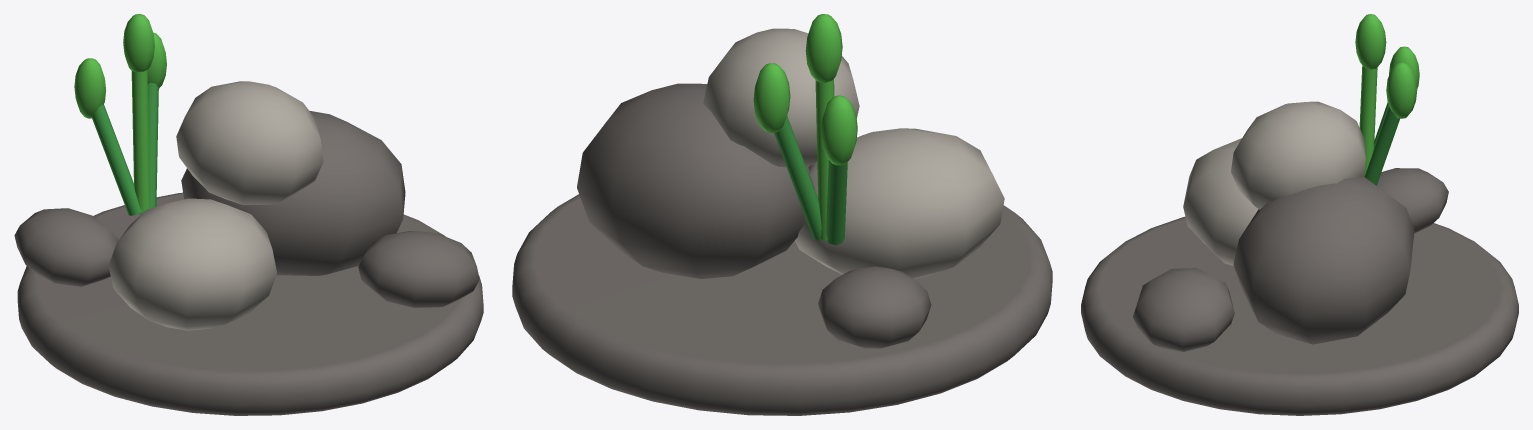
The model's file is DecorRocks.fbx.
3 renders of one model, left to right at view 1: azimuth 30°, elevation 25°; view 2: azimuth 150°, elevation 25°; view 3: azimuth 270°, elevation 25°, orthographic. The views are drawn at different scales.
Visible parts, largest first — view 1: DecorRocks mesh; view 2: DecorRocks mesh; view 3: DecorRocks mesh.
Boxes of the visible parts, x1,y1,x2,y2 form: DecorRocks mesh: (14,14,483,415); DecorRocks mesh: (512,14,1052,415); DecorRocks mesh: (1081,14,1518,415).
Size of the model in its own units: 0.34 by 0.241 by 0.34.
